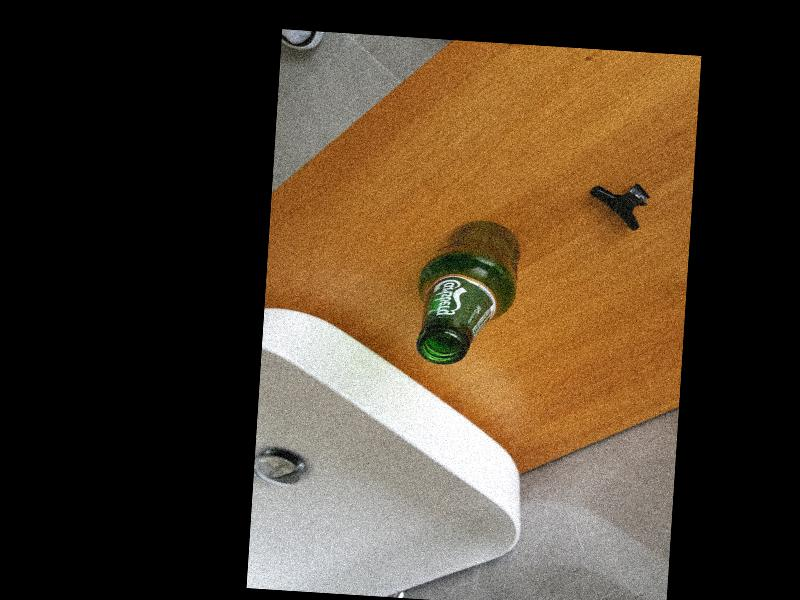Beer: (414, 215, 520, 367)
